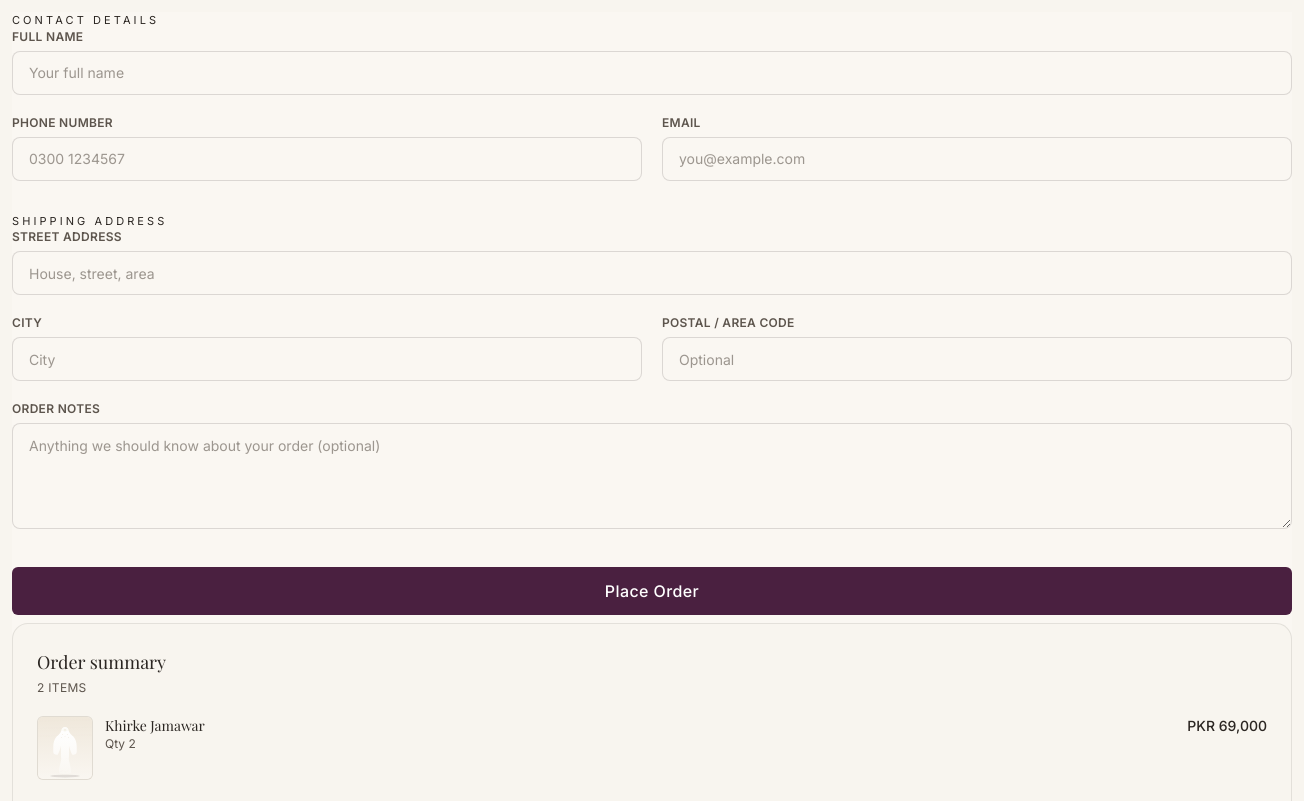
Scenario: CheckoutForm › surfaces the safe unavailable-payment state (never a fake success)
This screenshot has width=1304, height=801.
Type "Ali Raza" into the field labelled "Full name".
click(652, 72); type("Ali Raza")  # box [12,50,1292,94]
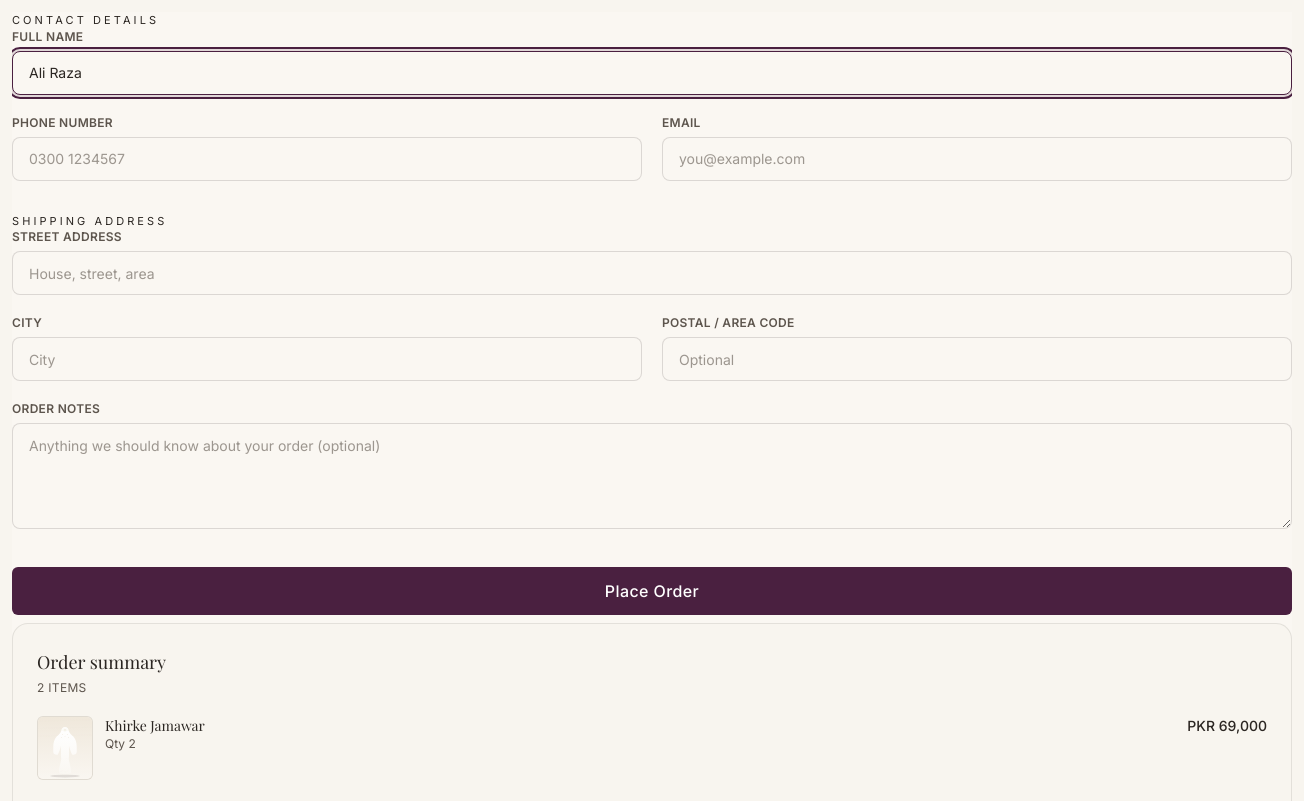
Type "03001234567" into the field labelled "Phone number".
click(327, 158); type("03001234567")  # box [12,136,642,180]
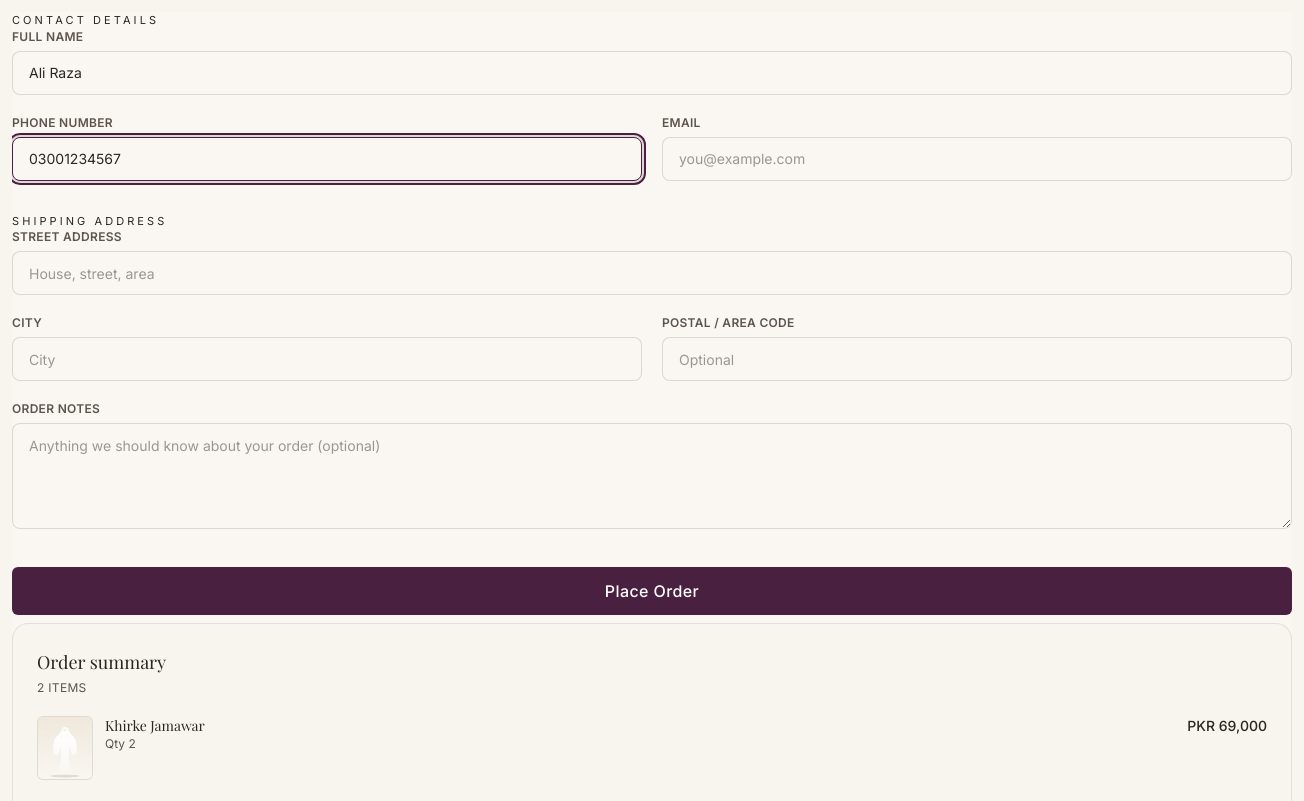
Type "ali@example.com" into the field labelled "Email".
click(977, 158); type("ali@example.com")  # box [662,136,1292,180]
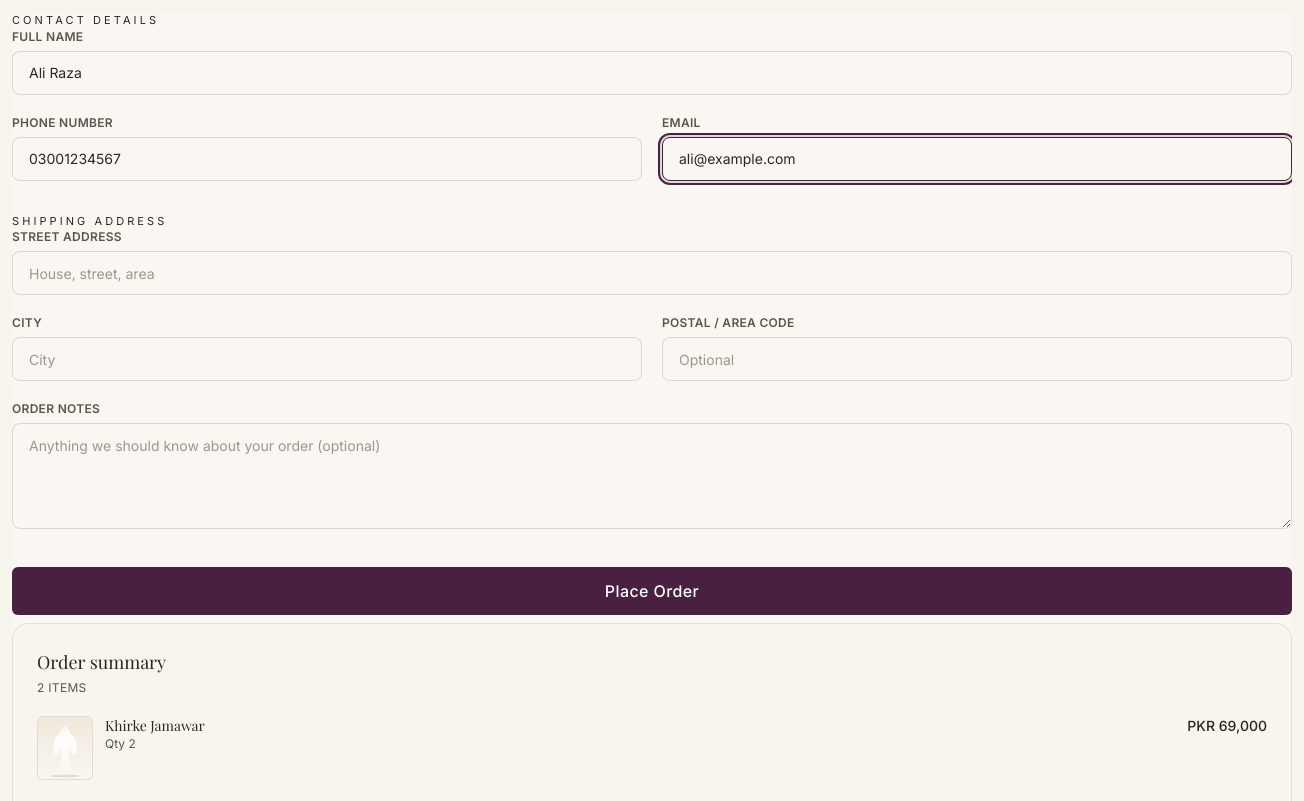
Type "House 44, Main Boulevard" into the field labelled "Street address".
click(652, 273); type("House 44, Main Boulevard")  # box [12,251,1292,295]
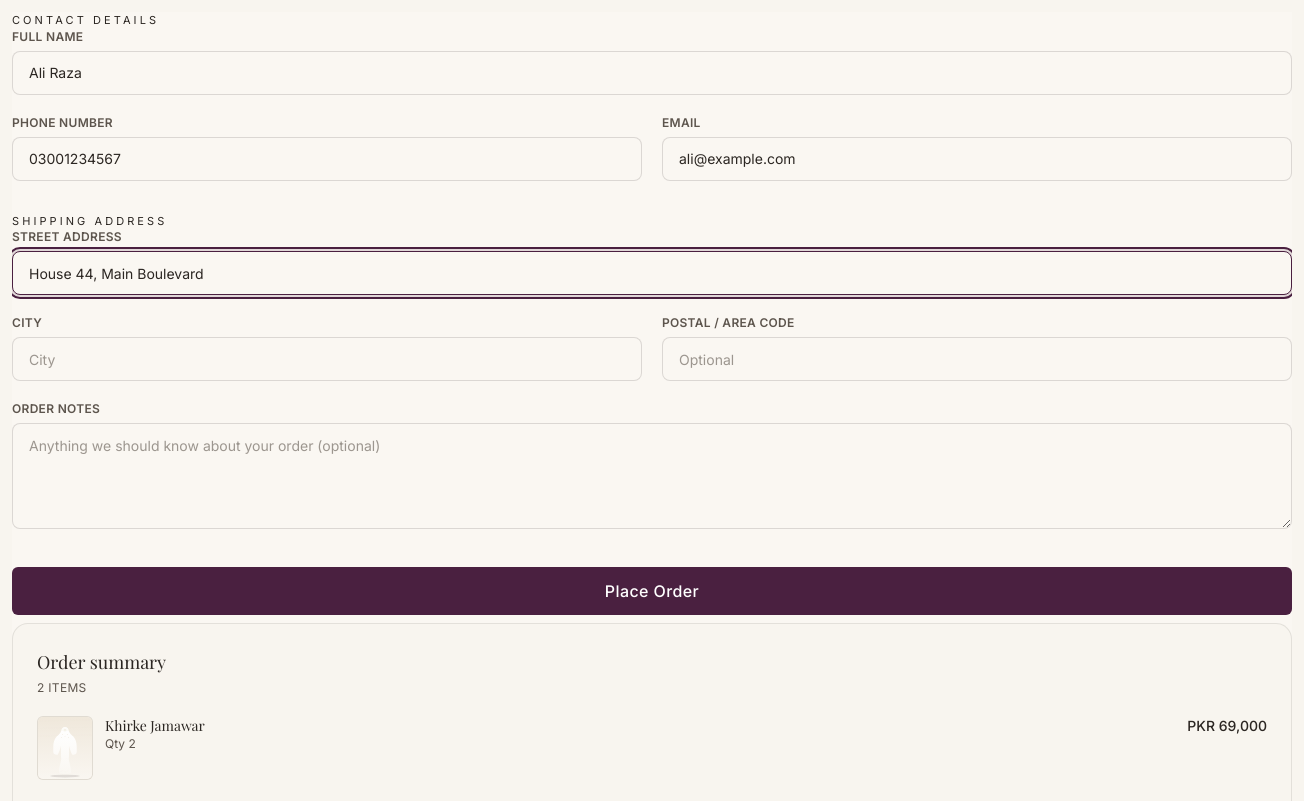
Type "Lahore" into the field labelled "City".
click(327, 359); type("Lahore")  # box [12,337,642,381]
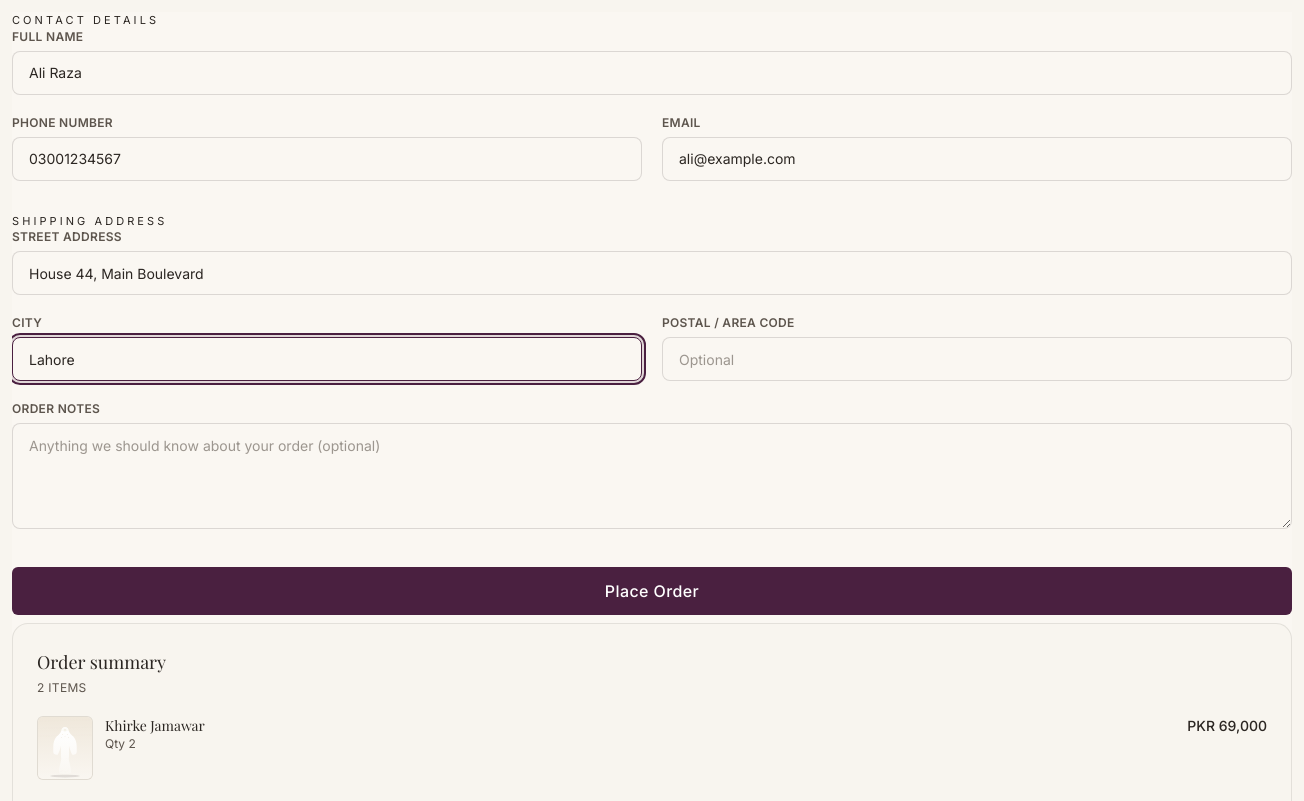
Click the button "Place Order".
click(652, 591)  # box [12,567,1292,615]
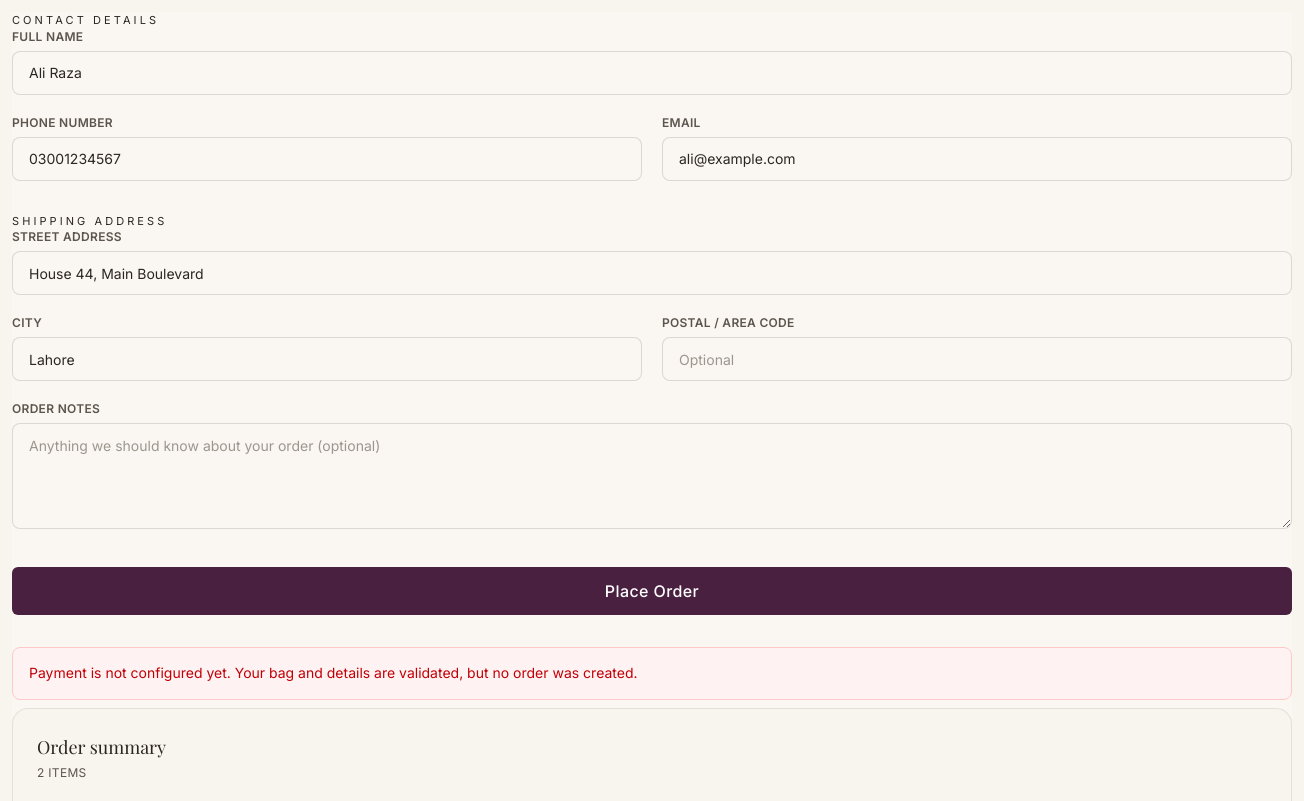
Result: the text "no order was created" is shown at [29,664,638,681]
